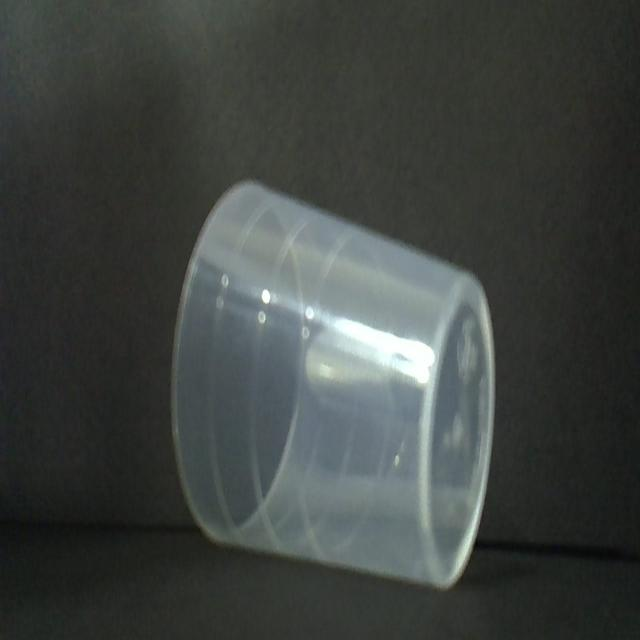cup: (165, 168, 501, 595)
